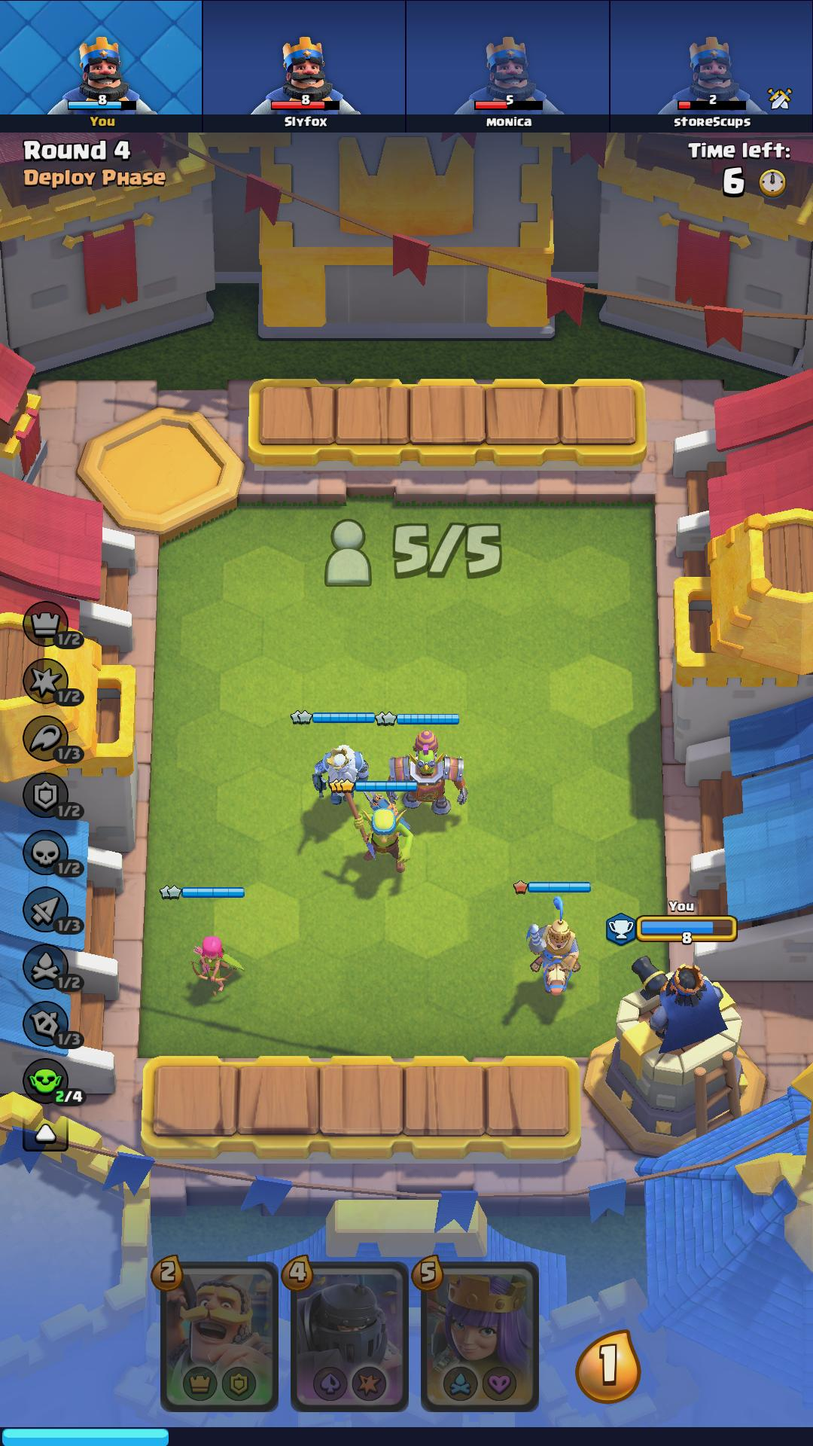archer: (182, 924, 242, 1004)
ghost: (305, 739, 369, 805)
hand-knight: (161, 1265, 281, 1410)
hand-mega: (295, 1267, 408, 1407)
hand-queen: (424, 1267, 537, 1412)
machine: (385, 728, 472, 823)
prince: (519, 896, 585, 998)
spear: (337, 793, 415, 872)
